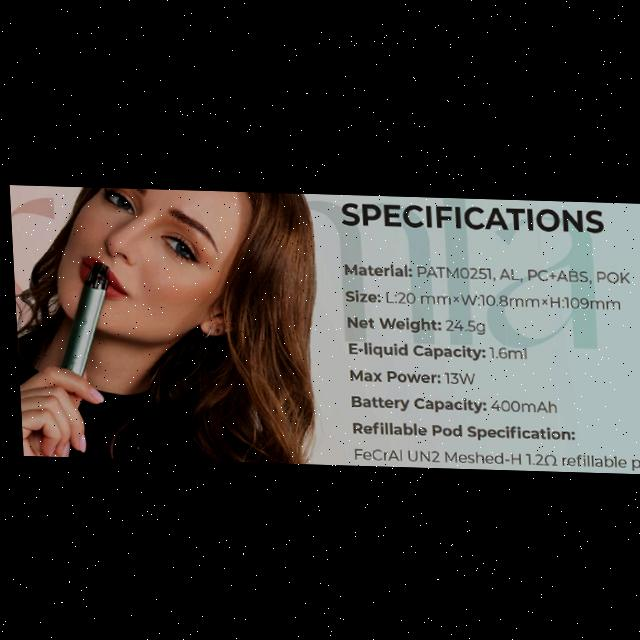vape: (52, 260, 112, 377)
